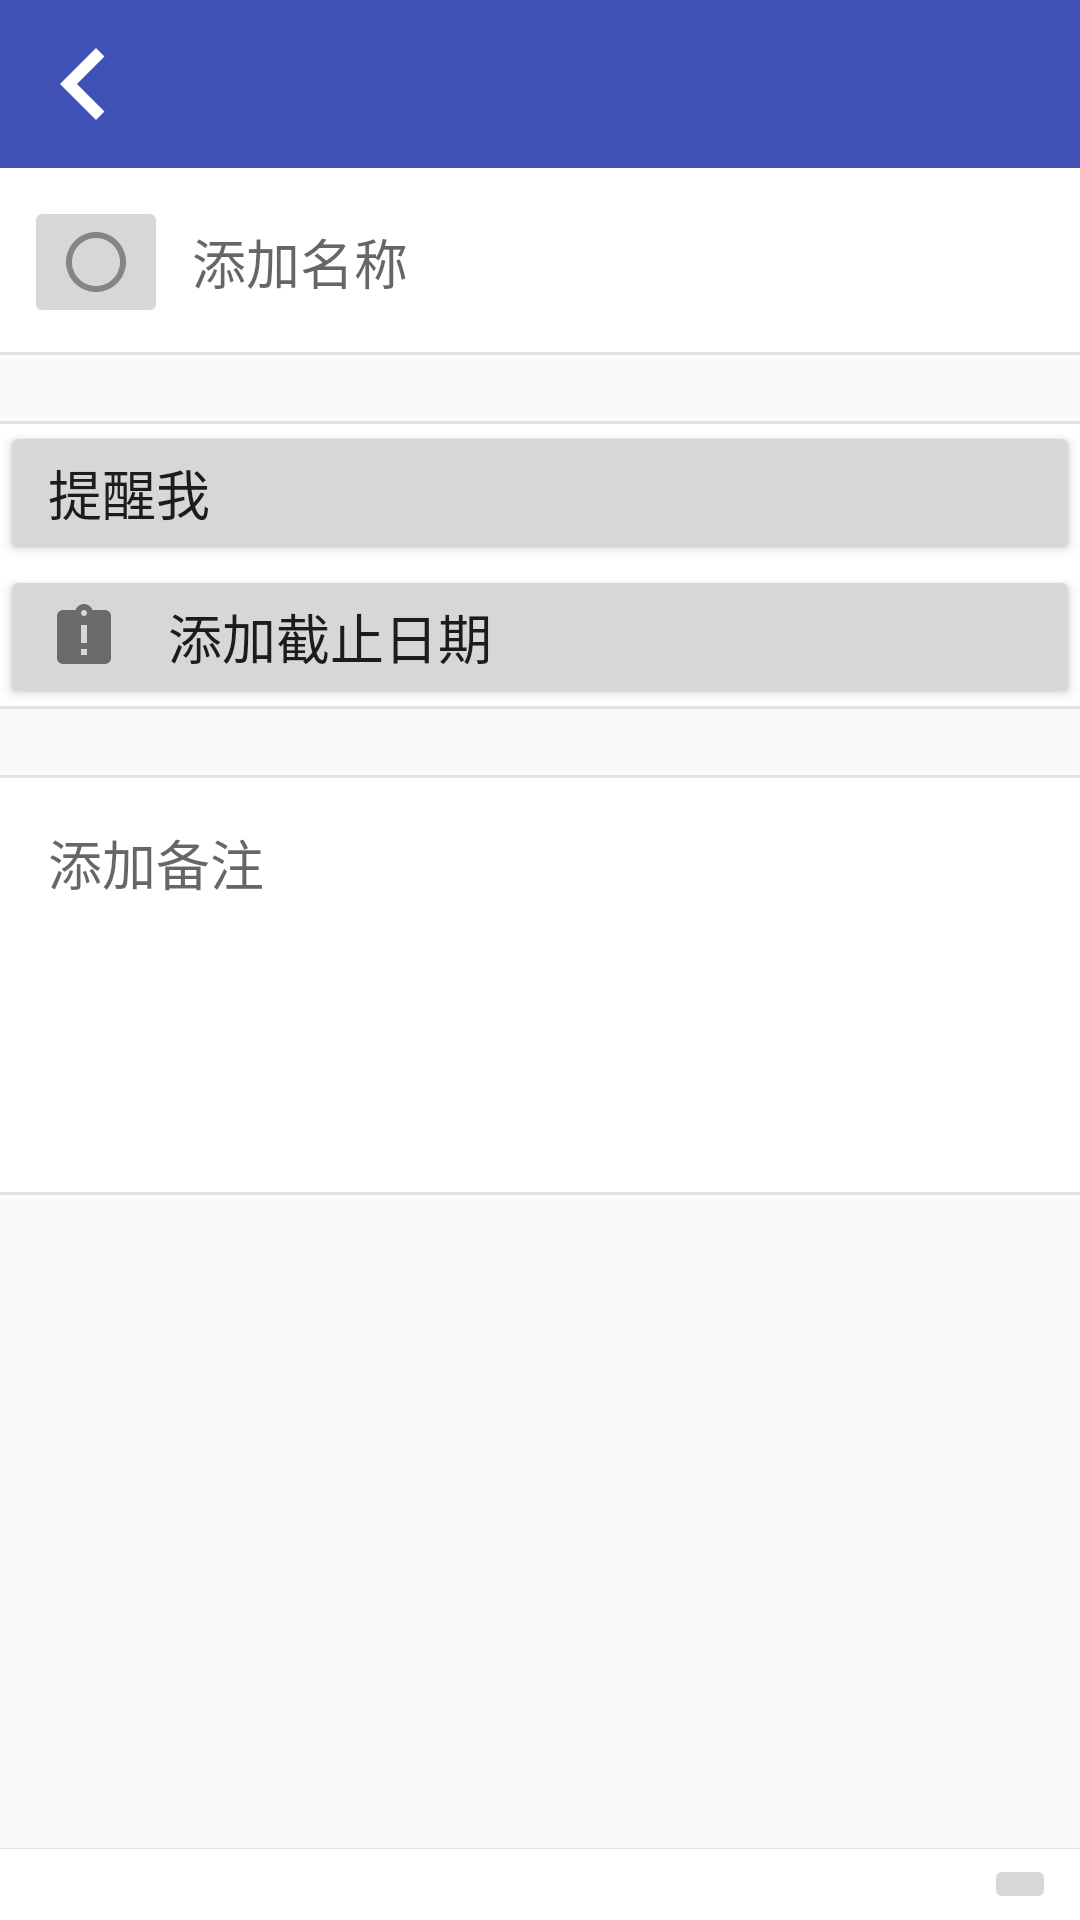

Screen size 1080px x 1920px. Icon name, then its center in pixels as point (x, y):
radio unchecked: point (96, 262)
